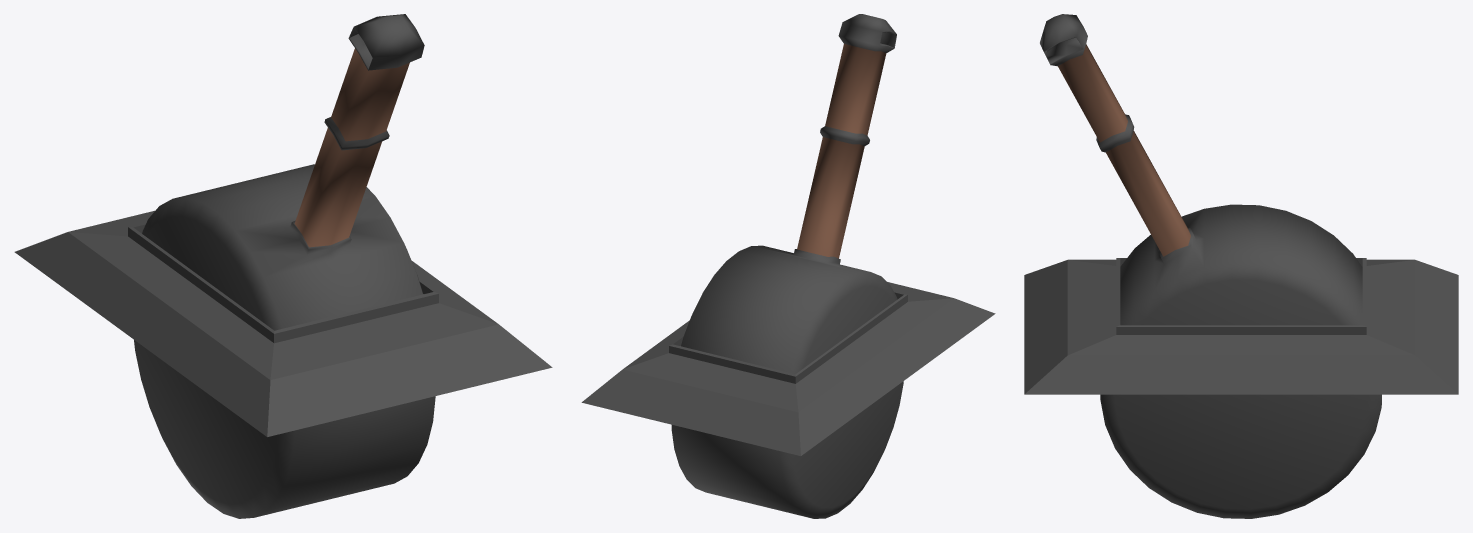
Rendered from Lever.fbx.
The picture shows the model from 3 angles, left to right: view 1: azimuth 30°, elevation 25°; view 2: azimuth 150°, elevation 25°; view 3: azimuth 270°, elevation 25°; orthographic projection. The views are drawn at different scales.
Visible parts, largest first — view 1: Cylinder, Cube; view 2: Cylinder, Cube; view 3: Cylinder, Cube.
Boxes of the visible parts, x1,y1,x2,y2 form: Cylinder: (134, 14, 435, 518); Cube: (14, 210, 552, 436); Cylinder: (671, 14, 903, 518); Cube: (581, 282, 995, 455); Cylinder: (1040, 14, 1381, 518); Cube: (1024, 258, 1458, 394).
Bounding box in the file's own units: 98.8 × 181 × 152.
